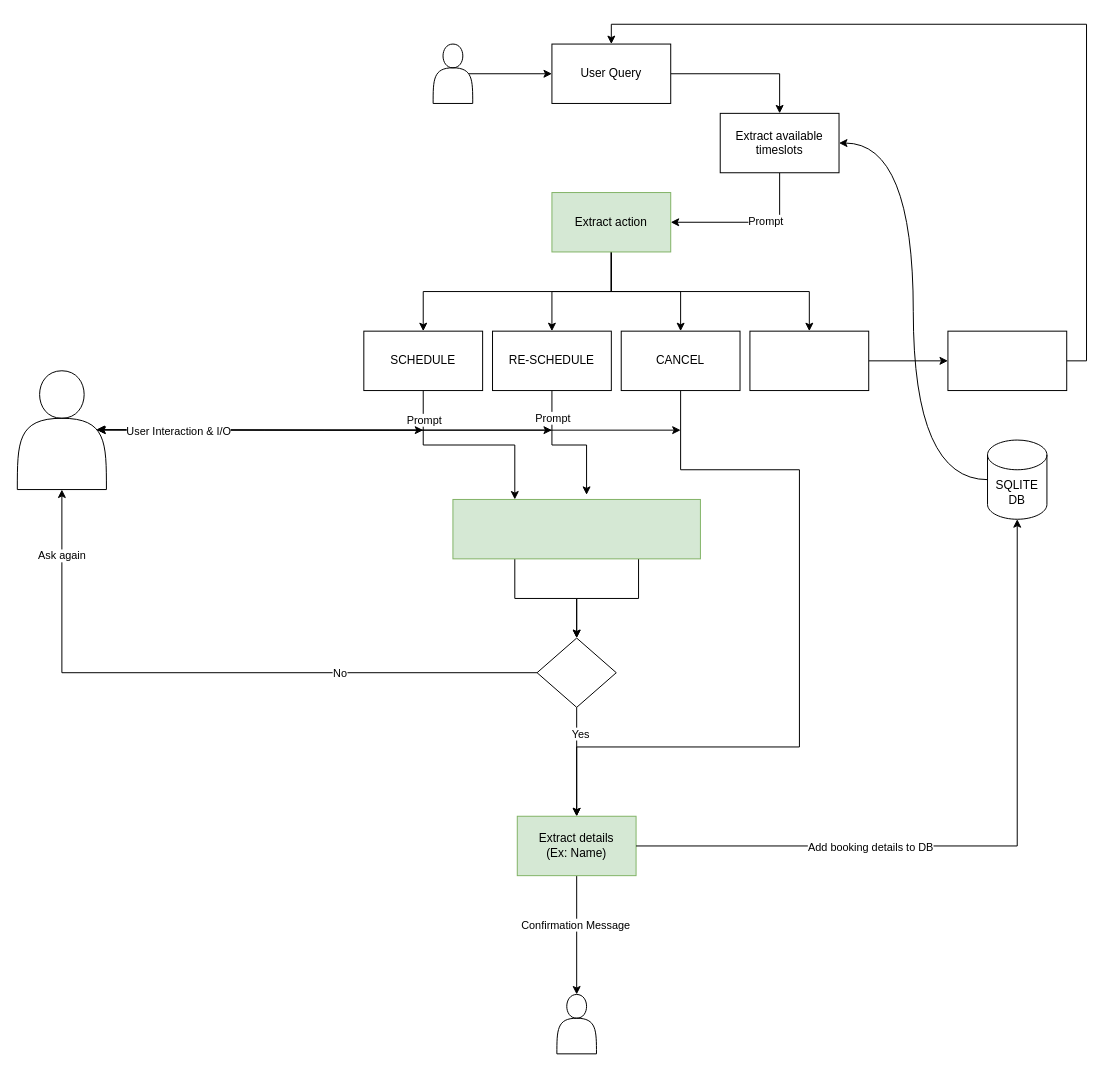
Some shapes in this 1112 by 1071 pixel diagram are drawn without their labels. The box of each missing label's shape, as (x1, y1, x2, y2) in pixels:
Extract Time: (452, 498, 700, 559)
Is Valid?: (536, 637, 616, 707)
Return Sorry message and ask for user query: (947, 330, 1067, 391)
UNRELATED: (749, 330, 869, 391)
